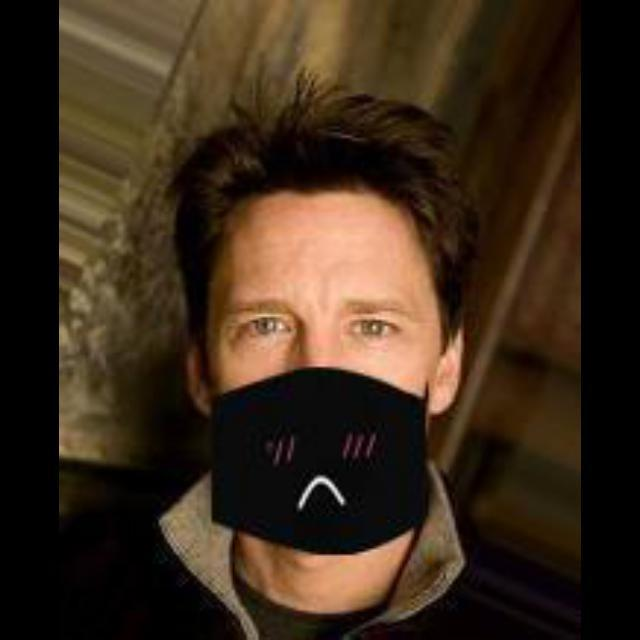suspicion: (160, 111, 466, 545)
